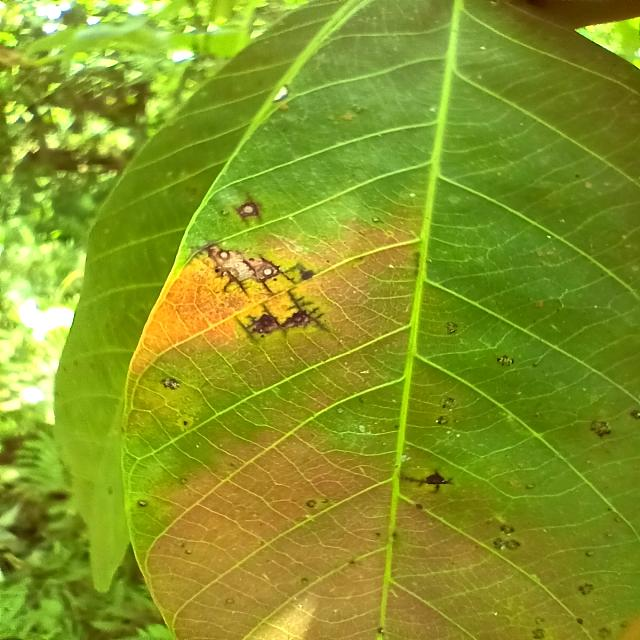Colletotrichum: (505, 538, 521, 550), (498, 524, 514, 534), (136, 500, 148, 507), (307, 499, 317, 507)
Corynespora: (280, 290, 335, 332), (204, 247, 250, 297), (244, 255, 296, 294), (234, 302, 281, 342), (404, 470, 456, 493), (232, 194, 264, 226)
